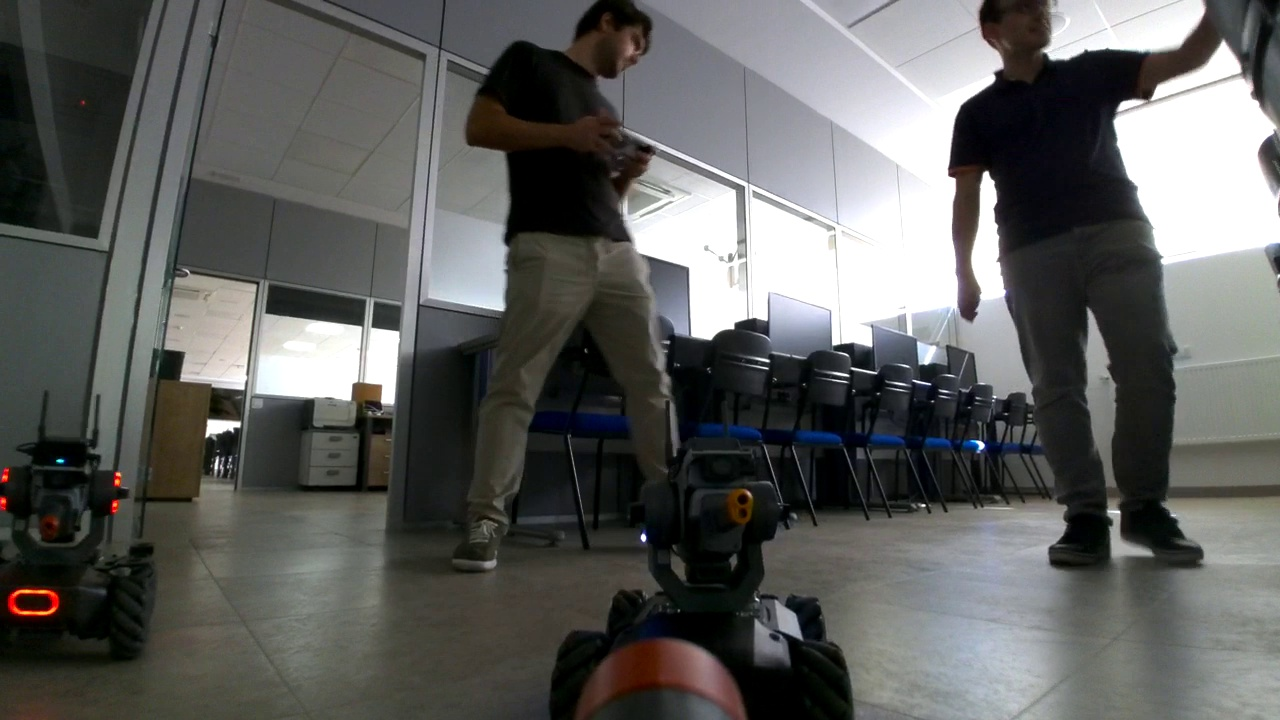robot: (554, 443, 853, 720), (2, 437, 159, 657)
